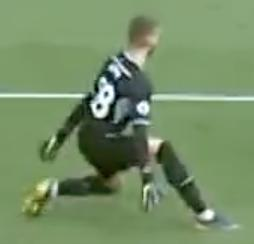goalkeeper: (9, 5, 247, 235)
